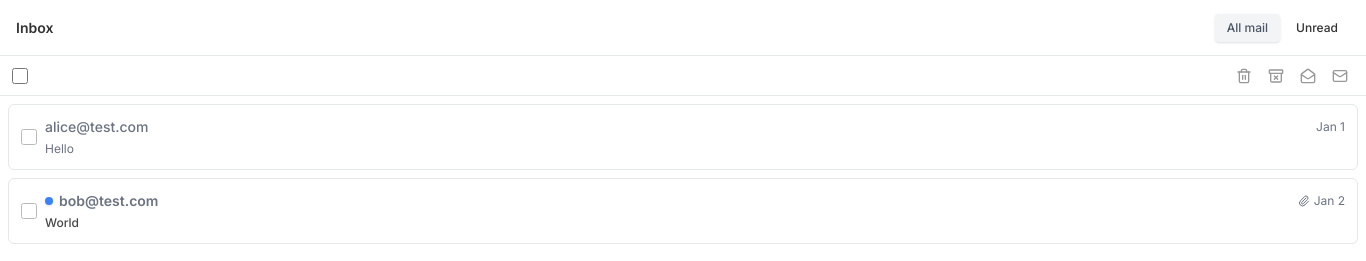
Test: MessageList — shared › Unread filter hides read messages
What coordinates should you click on to do the following:
click the button with test id "filter-unread"
I would click on:
 (1317, 28)
Its box is [1284,14,1350,42].
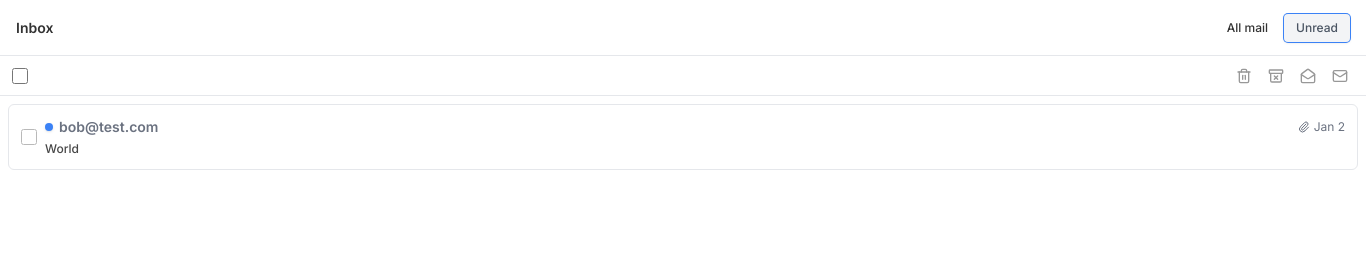
Expected: the text "bob@test.com" is shown, [59,117,158,137]
Result: the button "alice@test.com" is gone
